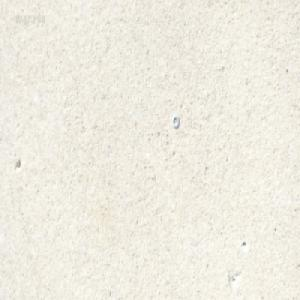Washer: (172, 113, 179, 128)
